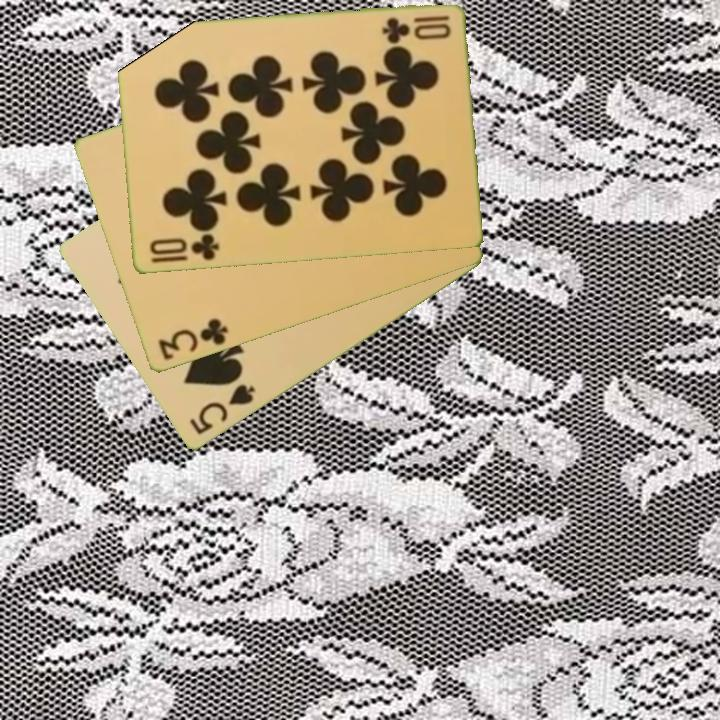10c: (145, 230, 222, 264), (378, 12, 452, 45)
3c: (154, 315, 231, 364)
5s: (186, 381, 258, 438)
